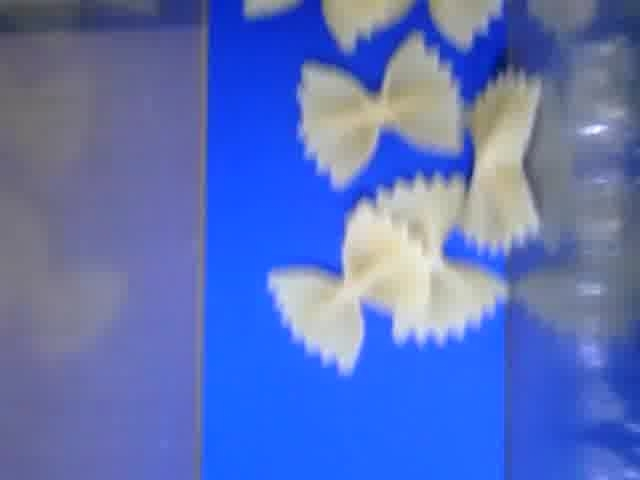farfalle: (268, 199, 428, 375), (368, 172, 511, 346), (297, 39, 460, 189), (463, 70, 544, 256)
